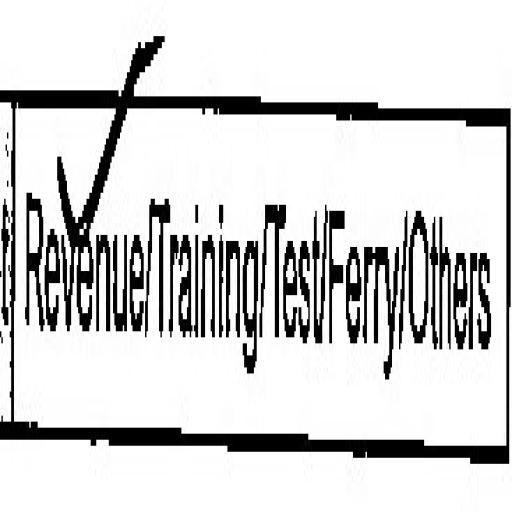check: (13, 0, 151, 472)
